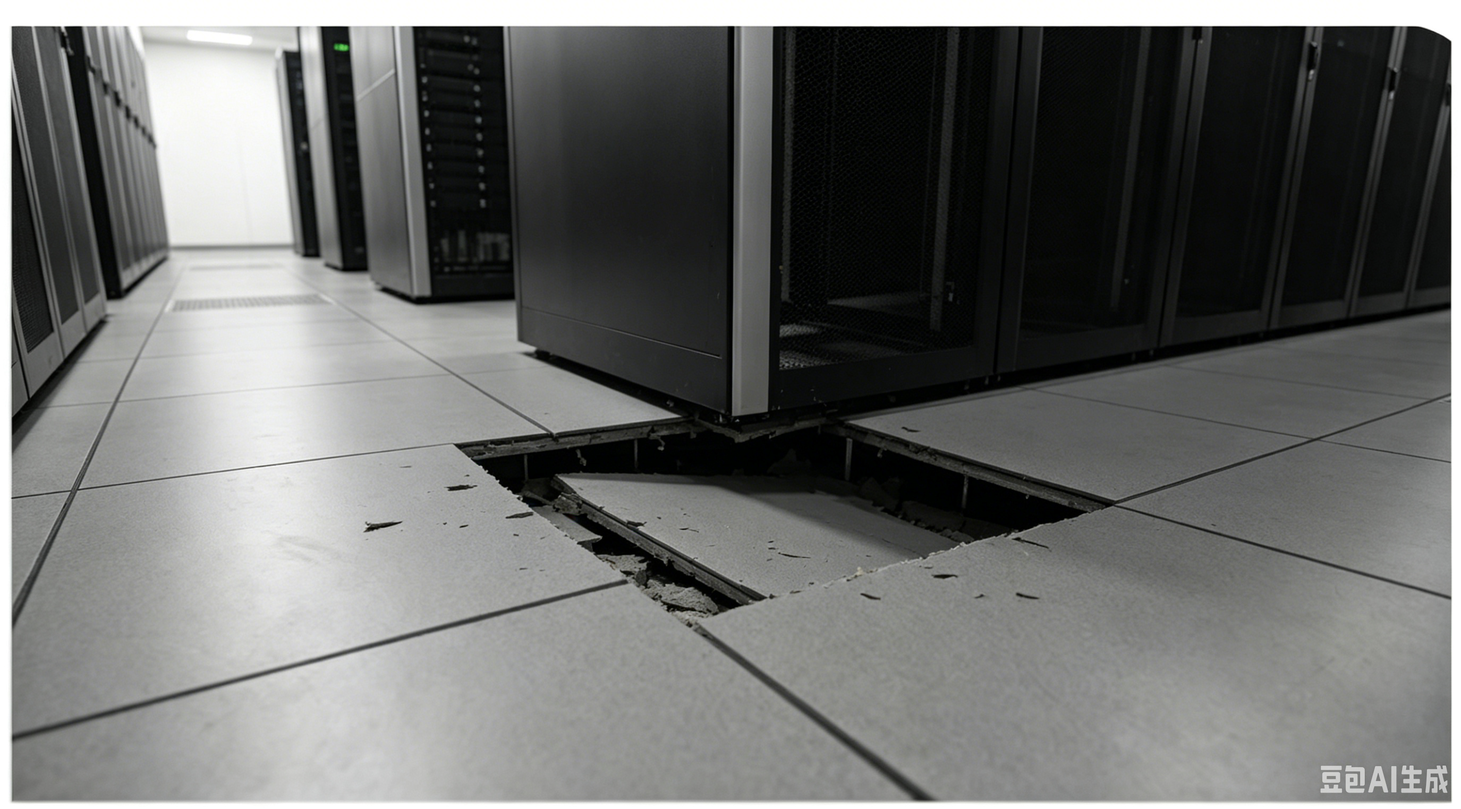floor_defect: (439, 394, 1131, 630)
